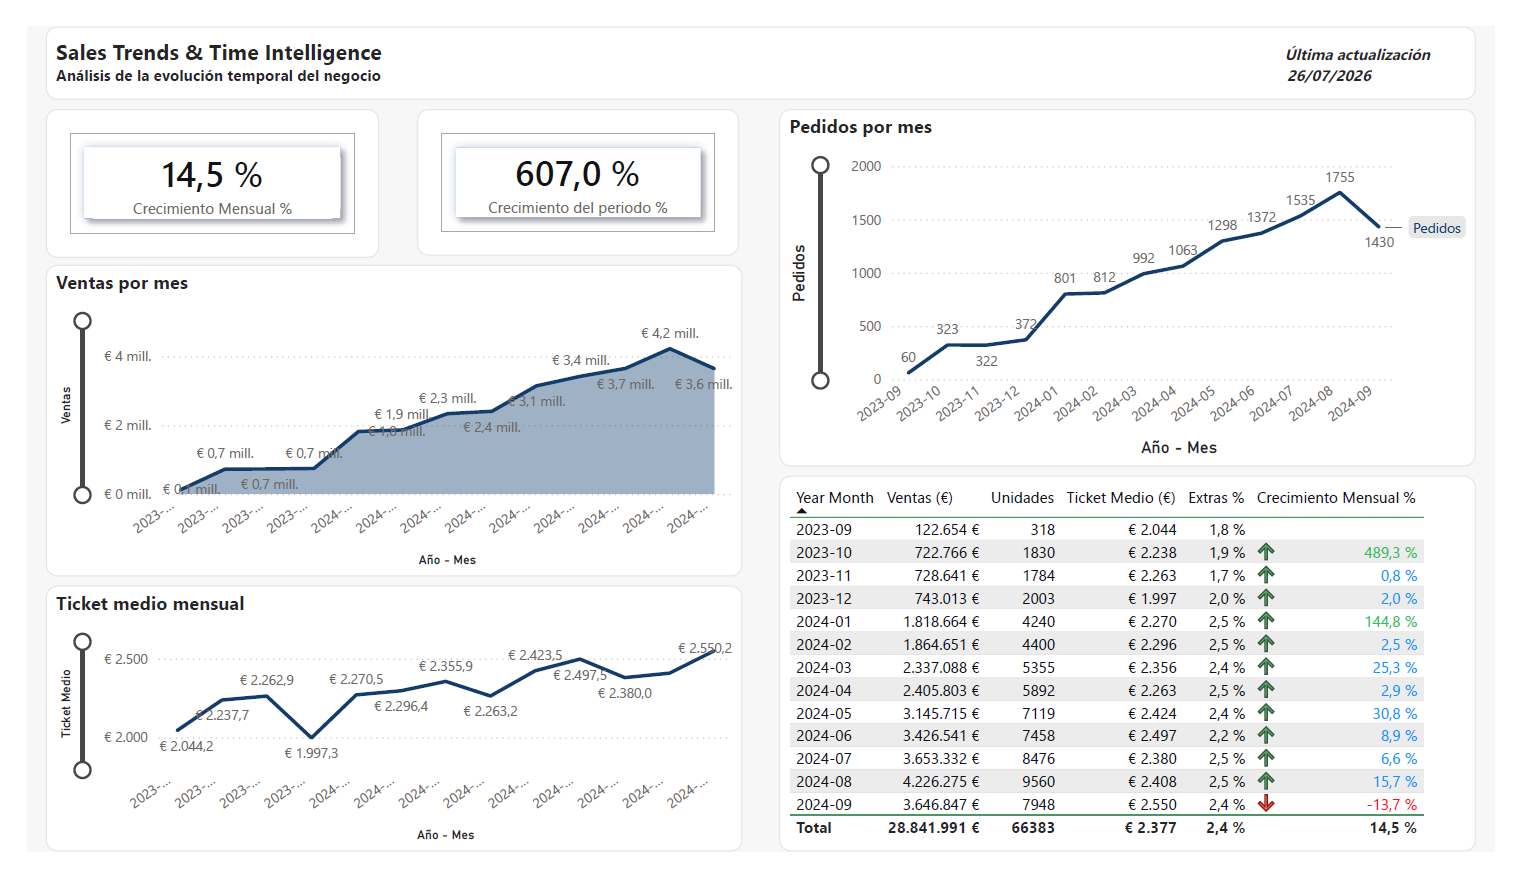

What the dashboard file says about the page in this screenshot:
{"tool":"powerbi","page":{"name":"Sales Trend & Time Intelligence ","canvas":[1280,720],"ordinal":3},"visuals":[{"type":"textbox","box":[16,0,1248,64],"z":0},{"type":"group","id":"g1","title":"Grupo 2","box":[16,72,608,128],"z":1000},{"type":"group","id":"g2","title":"Grupo 1","box":[340.3,72,283.7,128],"z":2000,"group":"g1"},{"type":"lineChart","title":"Pedidos por mes","fields":{"Category":["Calendar.Year Month"],"Y":["_Measures.Total Orders"]},"box":[656,72,608,312],"z":2000,"group":"g3"},{"type":"lineChart","title":"Ticket medio mensual","fields":{"Y":["_Measures.Average Order Value"],"Category":["Calendar.Year Month"]},"box":[16,488,608,232],"z":2000},{"type":"group","id":"g3","title":"Grupo 3","box":[16,72,1248,408],"z":3000},{"type":"lineChart","title":"Ventas por mes","fields":{"Category":["Calendar.Year Month"],"Y":["_Measures.Total Sales"]},"box":[16,208,608,272],"z":3000,"group":"g3"},{"type":"group","id":"g4","title":"Grupo 1","box":[16,72,283.7,128],"z":4000,"group":"g1"},{"type":"cardVisual","title":"Ventas Totales","fields":{"Data":["_Measures.Crecimiento Mensual %"]},"box":[16,72,290.8,129.7],"z":4000,"group":"g4"},{"type":"cardVisual","title":"Ventas Totales","fields":{"Data":["_Measures.Crecimiento Acumulado %"]},"box":[340.3,72,281.4,128],"z":4000,"group":"g2"},{"type":"tableEx","fields":{"Values":["Calendar.Year Month","_Measures.Total Sales","_Measures.Products Sold","_Measures.Average Customer Value","_Measures.Addon Revenue %","_Measures.Crecimiento Mensual %"]},"box":[656,392,608,328],"z":4000}]}

Visuals, with their boxes in screenshot pixels (x1, y1, x2, y2), scaled from the page's 1280x720 canvas onto the 1520x873 screenshot:
textbox: Rect(19, 0, 1501, 78)
"Grupo 2" group: Rect(19, 87, 741, 242)
"Grupo 1" group: Rect(404, 87, 741, 242)
"Pedidos por mes" lineChart: Rect(779, 87, 1501, 466)
"Ticket medio mensual" lineChart: Rect(19, 592, 741, 872)
"Grupo 3" group: Rect(19, 87, 1501, 582)
"Ventas por mes" lineChart: Rect(19, 252, 741, 582)
"Grupo 1" group: Rect(19, 87, 356, 242)
"Ventas Totales" cardVisual: Rect(19, 87, 364, 245)
"Ventas Totales" cardVisual: Rect(404, 87, 738, 242)
tableEx - Calendar.Year Month x _Measures.Total Sales: Rect(779, 475, 1501, 872)
